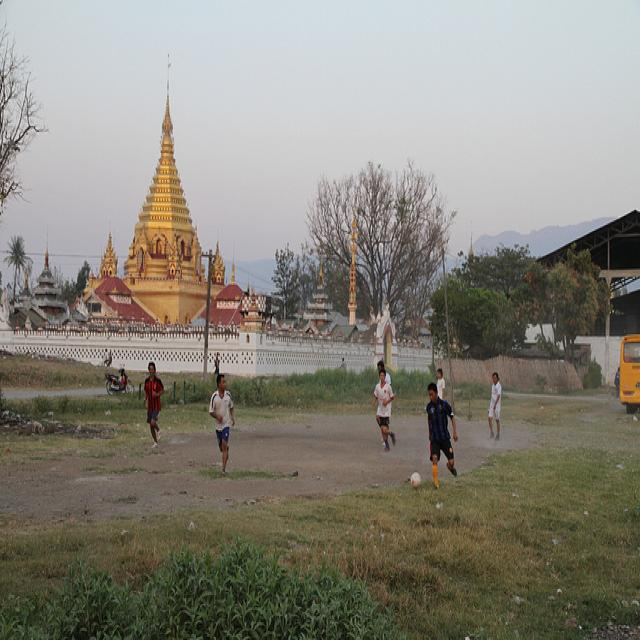motor: (106, 364, 134, 395)
